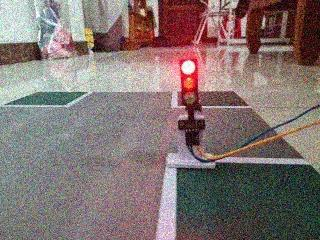red: (172, 54, 209, 115)
